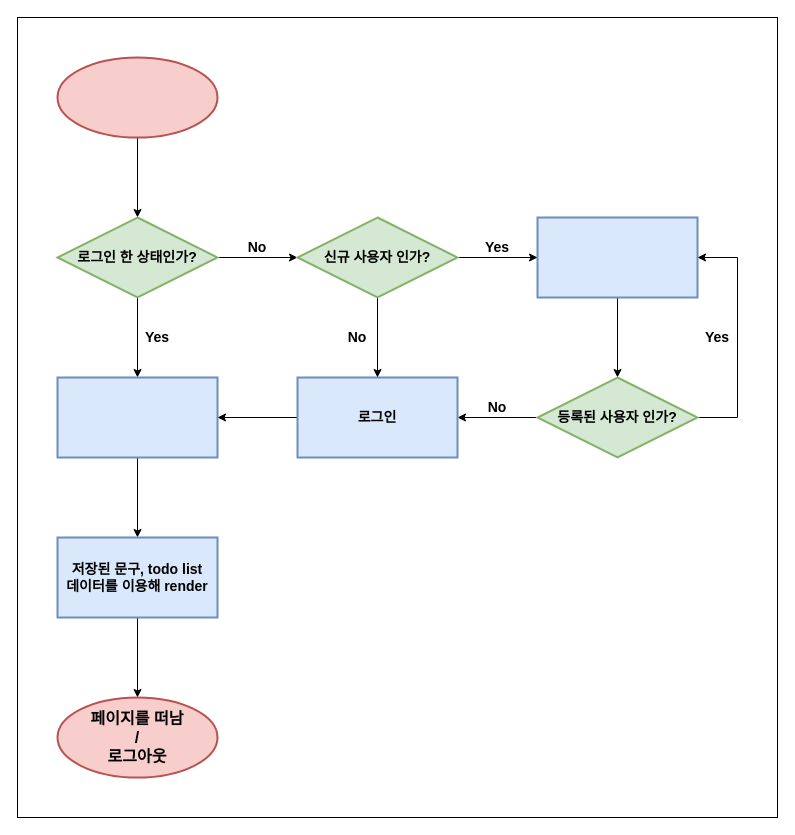
Some shapes in this 795 by 835 pixel diagram are drawn without their labels. Each missing label, with the centre of its shape:
"저장된 사용자 지정 색 정보를 이용해 Element들 render" goes at pixel 137 417.
"페이지 접속" goes at pixel 137 97.
"회원 가입" goes at pixel 617 257.
